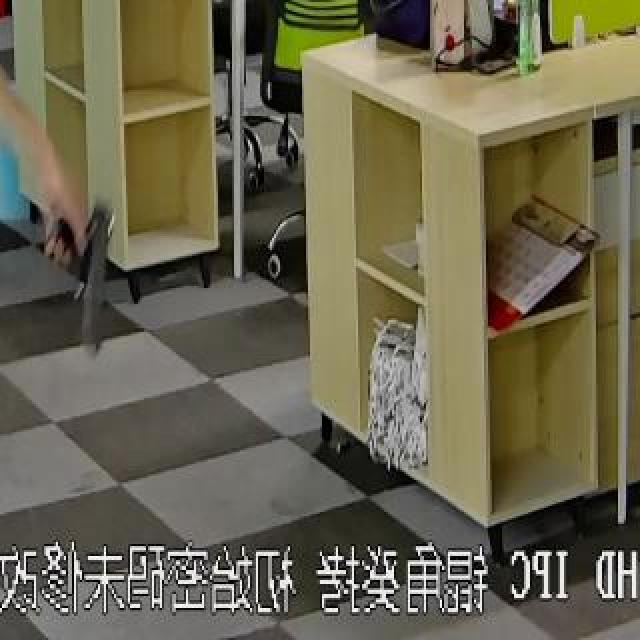Guns: (22, 146, 150, 387)
